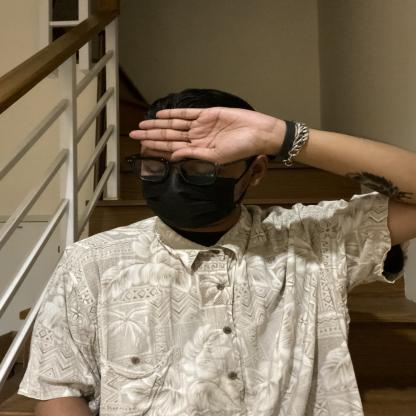Sick: (45, 76, 345, 229)
